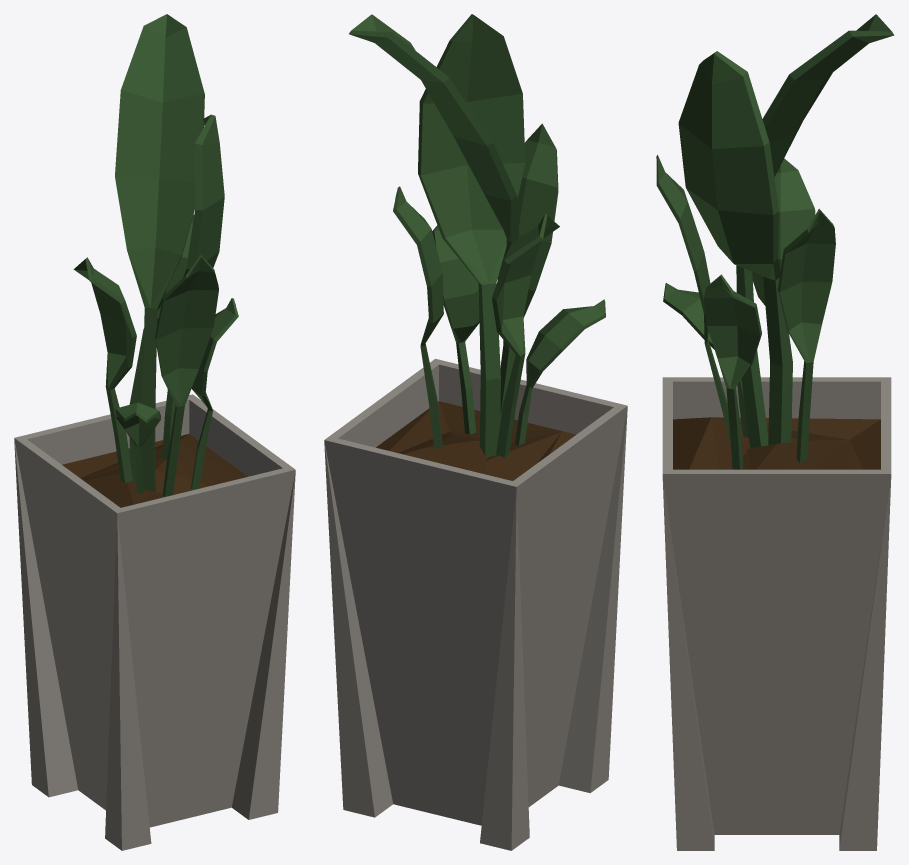
Rendered from Int_PlanterLarge01_2.fbx.
3 views of the same model, side by side, from view 1: azimuth 30°, elevation 25°; view 2: azimuth 150°, elevation 25°; view 3: azimuth 270°, elevation 25° (orthographic). The views are drawn at different scales.
Visible parts, largest first — view 1: Int_PlanterLarge01_2; view 2: Int_PlanterLarge01_2; view 3: Int_PlanterLarge01_2.
Part boxes in pixels (x1,y1,x2,y2): Int_PlanterLarge01_2: (14,14,295,850); Int_PlanterLarge01_2: (324,14,627,850); Int_PlanterLarge01_2: (656,14,894,850).
Size of what is drawn, in the model's own units: 51.03 by 53.07 by 200.
